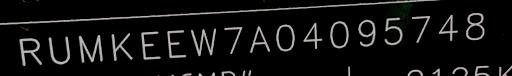letter: (188, 25, 218, 57), (162, 27, 188, 61), (76, 31, 104, 62), (15, 34, 43, 65), (46, 32, 72, 65), (137, 29, 163, 61), (109, 29, 135, 60), (408, 13, 432, 46), (381, 15, 405, 47), (300, 19, 324, 51), (273, 22, 297, 54), (248, 23, 272, 55), (221, 22, 243, 56), (326, 18, 350, 49), (355, 17, 377, 49), (436, 13, 460, 42), (464, 11, 486, 42)
